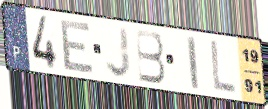4: (30, 13, 59, 71)
B: (134, 28, 167, 85)
E: (59, 19, 96, 75)
I: (185, 34, 201, 92)
J: (104, 25, 133, 80)
L: (209, 38, 237, 97)
